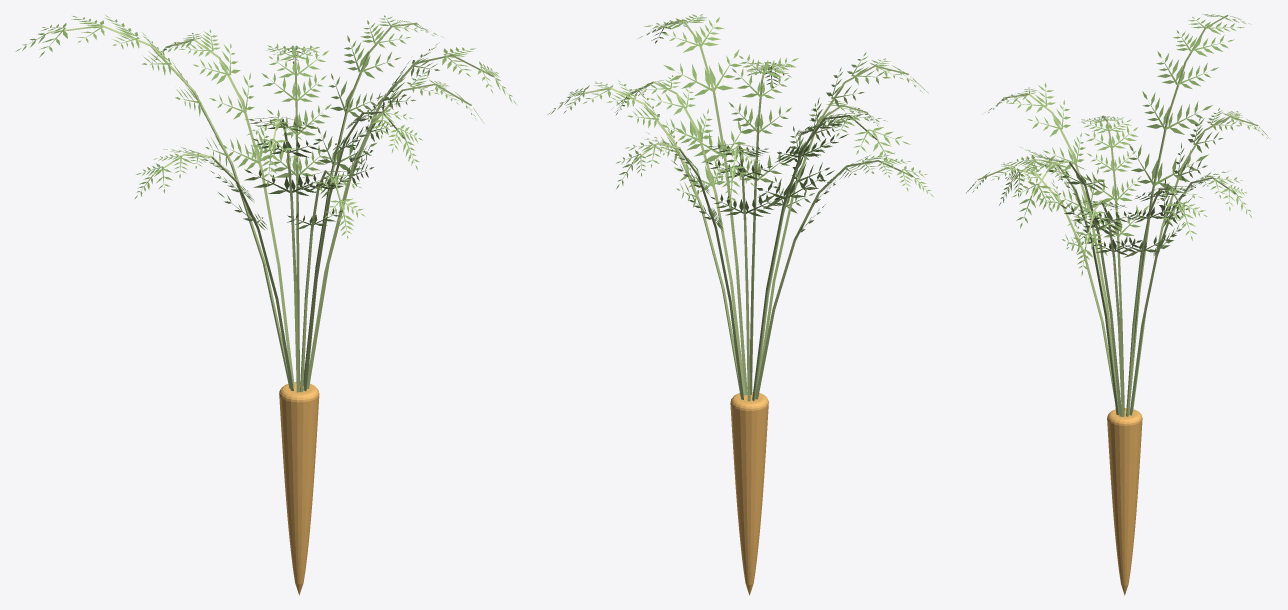
Rendered from carrot_v09.glb.
3 renders of one model, left to right at view 1: azimuth 30°, elevation 25°; view 2: azimuth 150°, elevation 25°; view 3: azimuth 270°, elevation 25°, orthographic. The views are drawn at different scales.
Visible parts, largest first — view 1: leaves, petioles, root; view 2: leaves, petioles, root; view 3: leaves, petioles, root.
Part boxes in pixels (x1,y1,x2,y2): leaves: [15, 14, 516, 238]; petioles: [48, 22, 493, 392]; root: [279, 382, 319, 595]; leaves: [547, 14, 933, 241]; petioles: [573, 19, 912, 401]; root: [730, 391, 768, 595]; leaves: [966, 14, 1269, 275]; petioles: [977, 15, 1258, 416]; root: [1107, 408, 1142, 595].
Bounding box in the file's own units: 0.3428 × 0.4788 × 0.2674.
